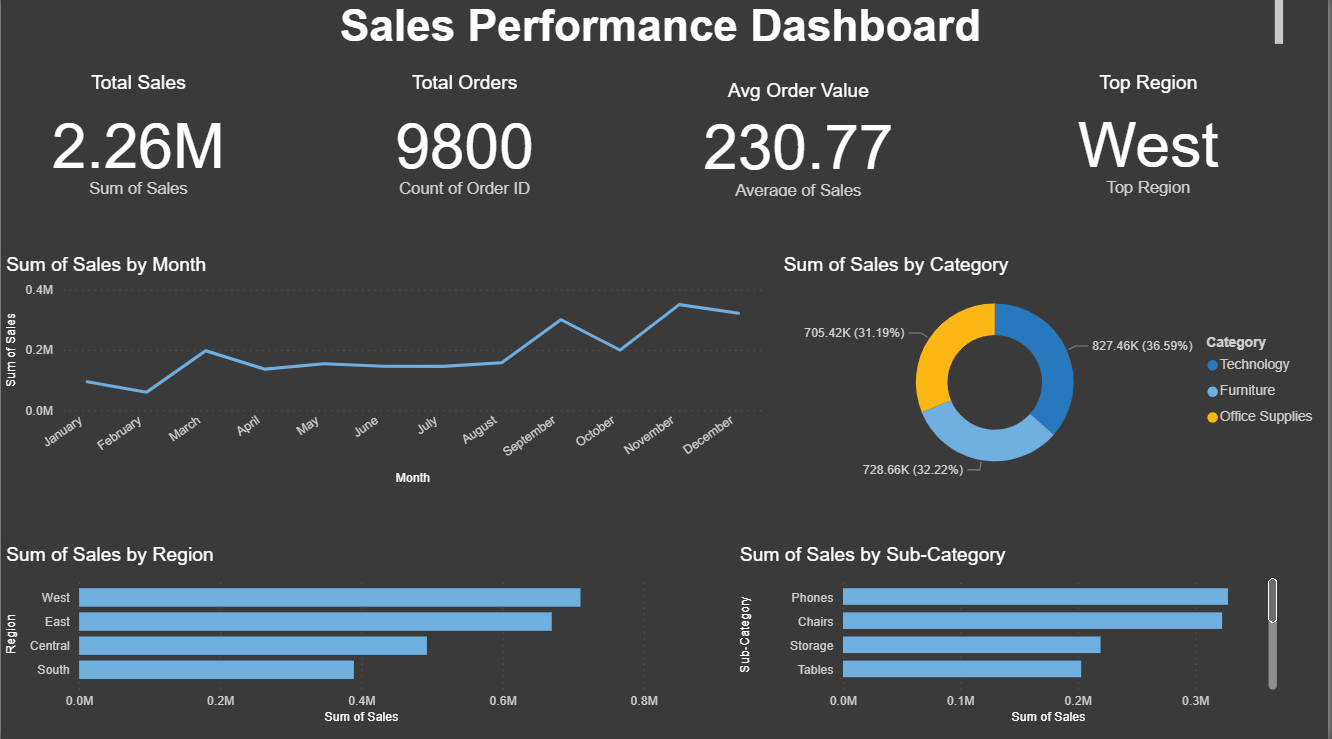

The page's visual inventory and layout, read from the dashboard file:
{"tool":"powerbi","page":{"name":"Page 1","canvas":[1280,720],"ordinal":0},"visuals":[{"type":"card","title":"Total Sales","fields":{"Values":["Sum(train.Sales)"]},"box":[0,73.6,265.3,131.5],"z":0},{"type":"card","title":"Total Orders","fields":{"Values":["CountNonNull(train.Order ID)"]},"box":[319.6,73.6,255.7,131.5],"z":1000},{"type":"card","title":"Avg Order Value","fields":{"Values":["Avg(train.Sales)"]},"box":[639.2,82,260.5,117],"z":2000},{"type":"card","title":"Top Region","fields":{"Values":["train.Top Region"]},"box":[978.1,73.6,258.1,129],"z":3000},{"type":"lineChart","fields":{"Category":["train.Order Date.Variation.Date Hierarchy.Month"],"Y":["Sum(train.Sales)"]},"box":[0,249.7,739.6,227.8],"z":4000},{"type":"donutChart","fields":{"Category":["train.Category"],"Y":["Sum(train.Sales)"]},"box":[750.6,249.7,529.7,227.8],"z":5000},{"type":"clusteredBarChart","fields":{"Category":["train.Region"],"Y":["Sum(train.Sales)"]},"box":[0,529.7,639.5,178.4],"z":6000},{"type":"clusteredBarChart","fields":{"Category":["train.Sub-Category"],"Y":["Sum(train.Sales)"]},"box":[707.9,529.4,528.2,178.5],"z":7000},{"type":"textbox","box":[38.6,0,1203.6,55.5],"z":8000}]}

Visuals, with their boxes in screenshot pixels (x1, y1, x2, y2), scaled from the page's 1280x720 canvas onto the 1332x739 screenshot:
"Total Sales" card: left=0, top=76, right=276, bottom=211
"Total Orders" card: left=333, top=76, right=599, bottom=211
"Avg Order Value" card: left=665, top=84, right=936, bottom=204
"Top Region" card: left=1018, top=76, right=1286, bottom=208
lineChart - train.Order Date.Variation.Date Hierarchy.Month x Sum(train.Sales): left=0, top=256, right=770, bottom=490
donutChart - train.Category x Sum(train.Sales): left=781, top=256, right=1331, bottom=490
clusteredBarChart - train.Region x Sum(train.Sales): left=0, top=544, right=665, bottom=727
clusteredBarChart - train.Sub-Category x Sum(train.Sales): left=737, top=543, right=1286, bottom=727
textbox: left=40, top=0, right=1293, bottom=57
